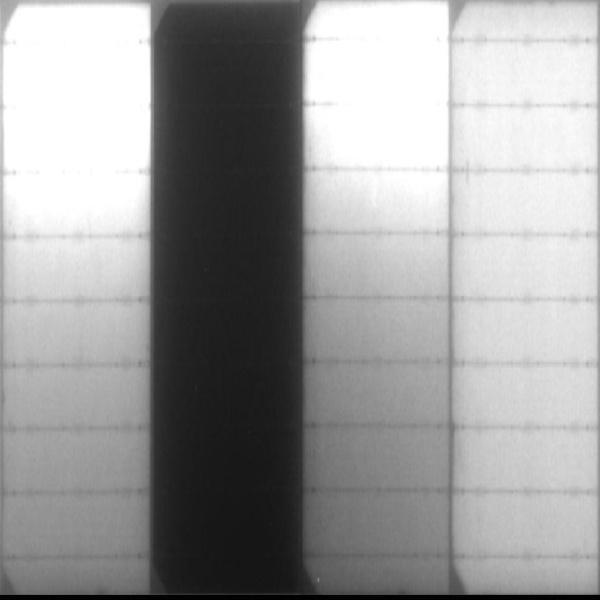hot_spot: (6, 105, 147, 163), (6, 47, 149, 101), (313, 46, 444, 99), (326, 113, 443, 164), (320, 1, 446, 36), (21, 10, 142, 44), (18, 180, 136, 208)
no_electricity: (151, 3, 306, 600)
